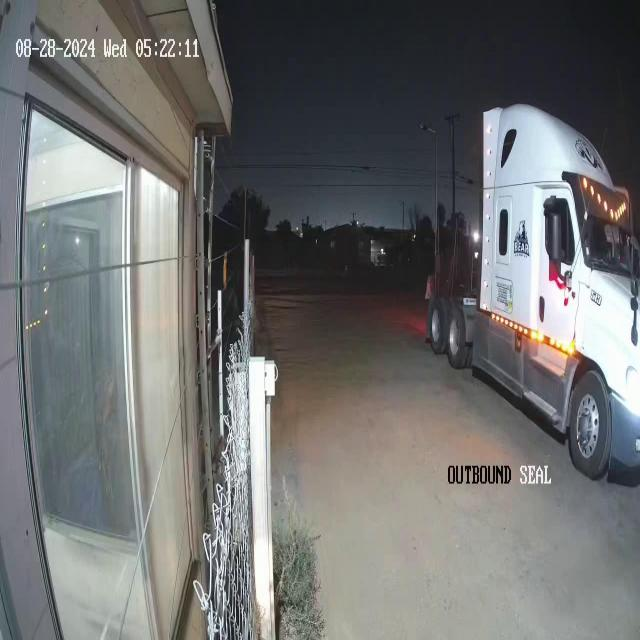BOBTAIL: (426, 101, 639, 478)
